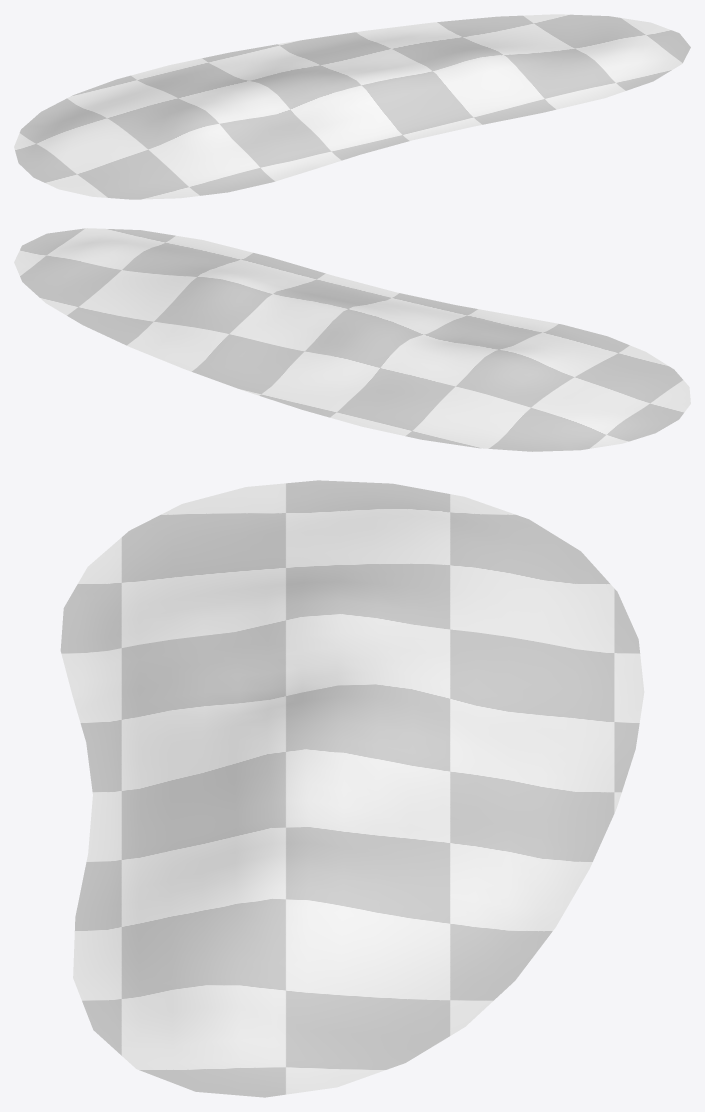
File: Hill.fbx
The picture shows the model from 3 angles, top to bottom: view 1: azimuth 30°, elevation 25°; view 2: azimuth 150°, elevation 25°; view 3: azimuth 270°, elevation 25°; orthographic projection. The views are drawn at different scales.
Parts seen in each view (by area): view 1: Hill; view 2: Hill; view 3: Hill.
Boxes of the visible parts, <box> form: Hill: <box>14,14,690,199</box>; Hill: <box>14,228,690,451</box>; Hill: <box>60,480,644,1097</box>.
Size of the model in its own units: 8.73 by 0.2885 by 3.49.
